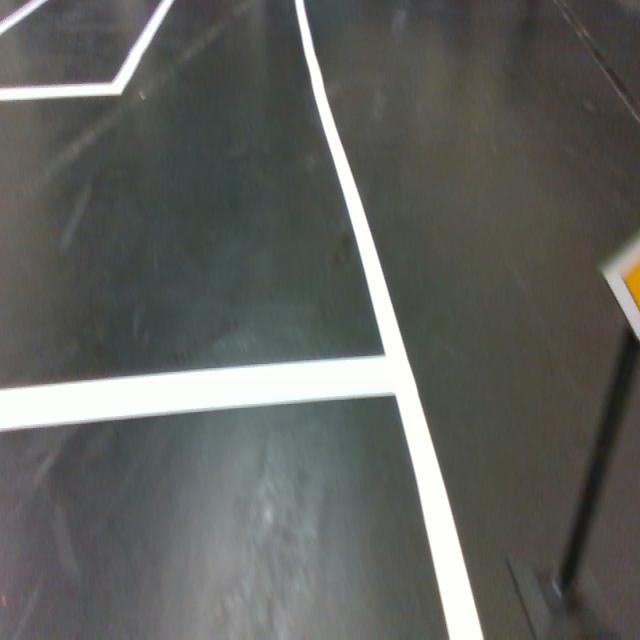priority-sign: (599, 224, 640, 347)
